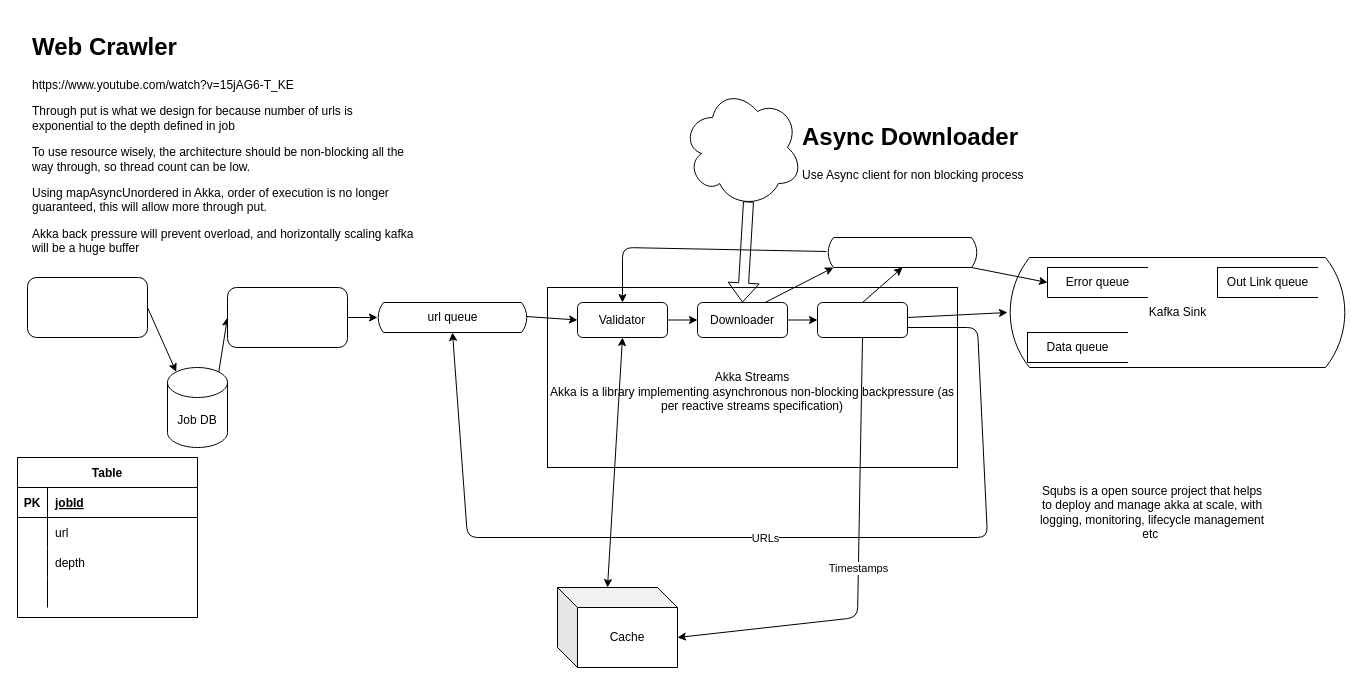
The diagram is 1365 pixels wide and 685 high, and some of its shapes have lost their labels. The shapes that lost their labels are listed below. From the top down, each one's centre as x and y in pixels, then its label:
At pixel 902 252: "Retry Queue".
At pixel 87 307: "Crawl Jobs Submission Service".
At pixel 287 317: "Job Consumer".
At pixel 862 320: "Page Provessor".
